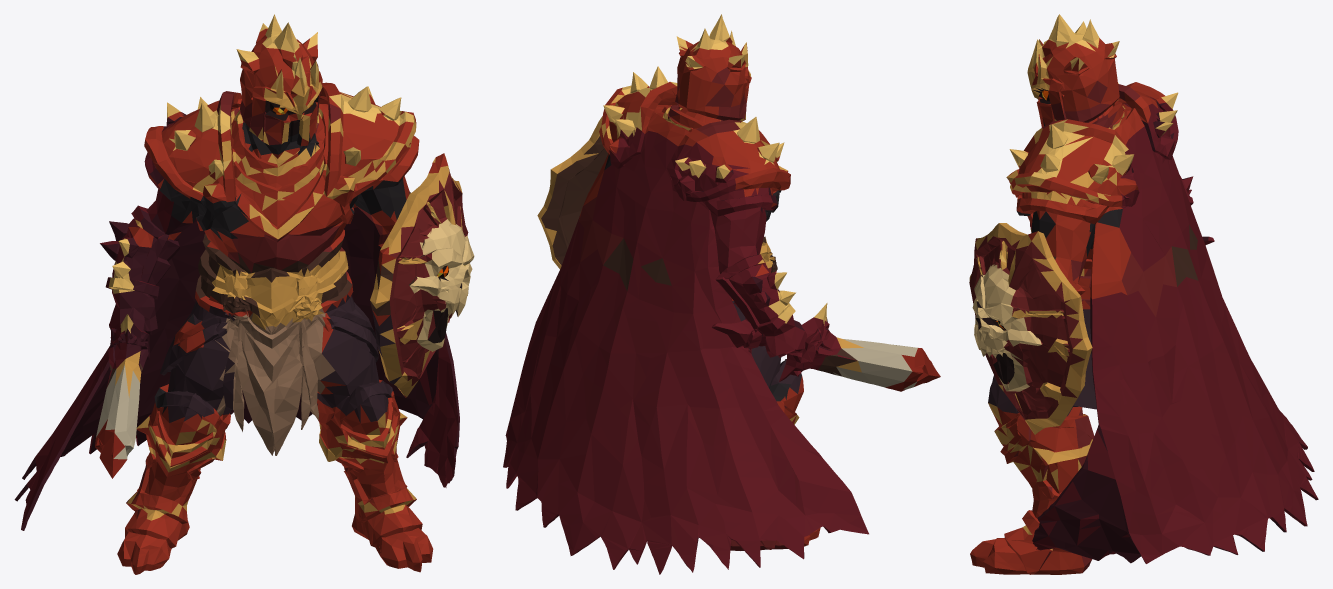
File: skull-warrior.obj
3 views of the same model, side by side, from view 1: azimuth 30°, elevation 25°; view 2: azimuth 150°, elevation 25°; view 3: azimuth 270°, elevation 25° (orthographic). The views are drawn at different scales.
Parts seen in each view (by area): view 1: skull-warrior; view 2: skull-warrior; view 3: skull-warrior.
Part boxes in pixels (box(x1,y1,x2,y2)): skull-warrior: box(14, 14, 474, 574); skull-warrior: box(503, 14, 940, 574); skull-warrior: box(969, 14, 1318, 574).
Bounding box in the file's own units: 4.23 × 5.28 × 3.27.
